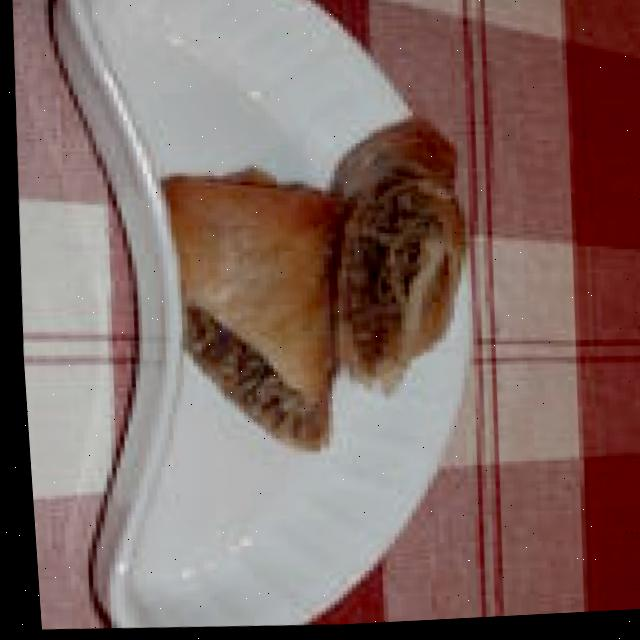鸡蛋料理: (135, 99, 477, 473)
